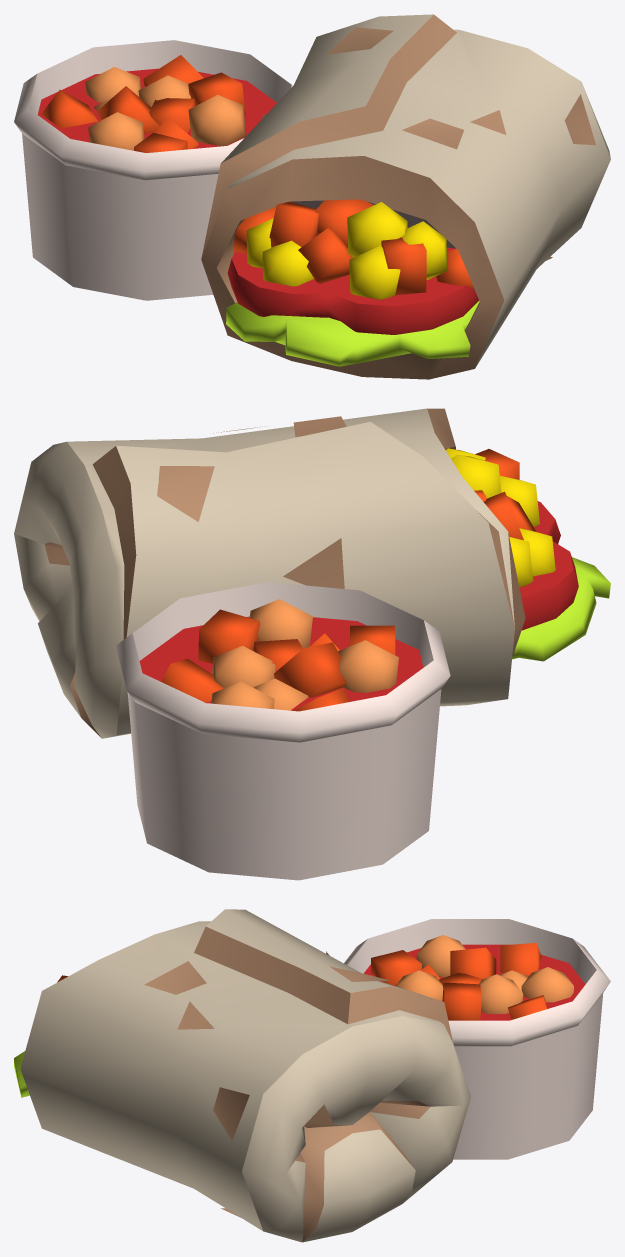
File: Burrito2_geo.fbx
3 views of the same model, one above another, from view 1: azimuth 30°, elevation 25°; view 2: azimuth 150°, elevation 25°; view 3: azimuth 270°, elevation 25° (orthographic). The views are drawn at different scales.
Parts seen in each view (by area): view 1: Burrito2_geo; view 2: Burrito2_geo; view 3: Burrito2_geo.
Boxes of the visible parts, x1,y1,x2,y2 form: Burrito2_geo: [14, 14, 610, 379]; Burrito2_geo: [14, 408, 610, 880]; Burrito2_geo: [14, 909, 610, 1242].
Bounding box in the file's own units: 0.7545 × 0.8995 × 0.3769.
